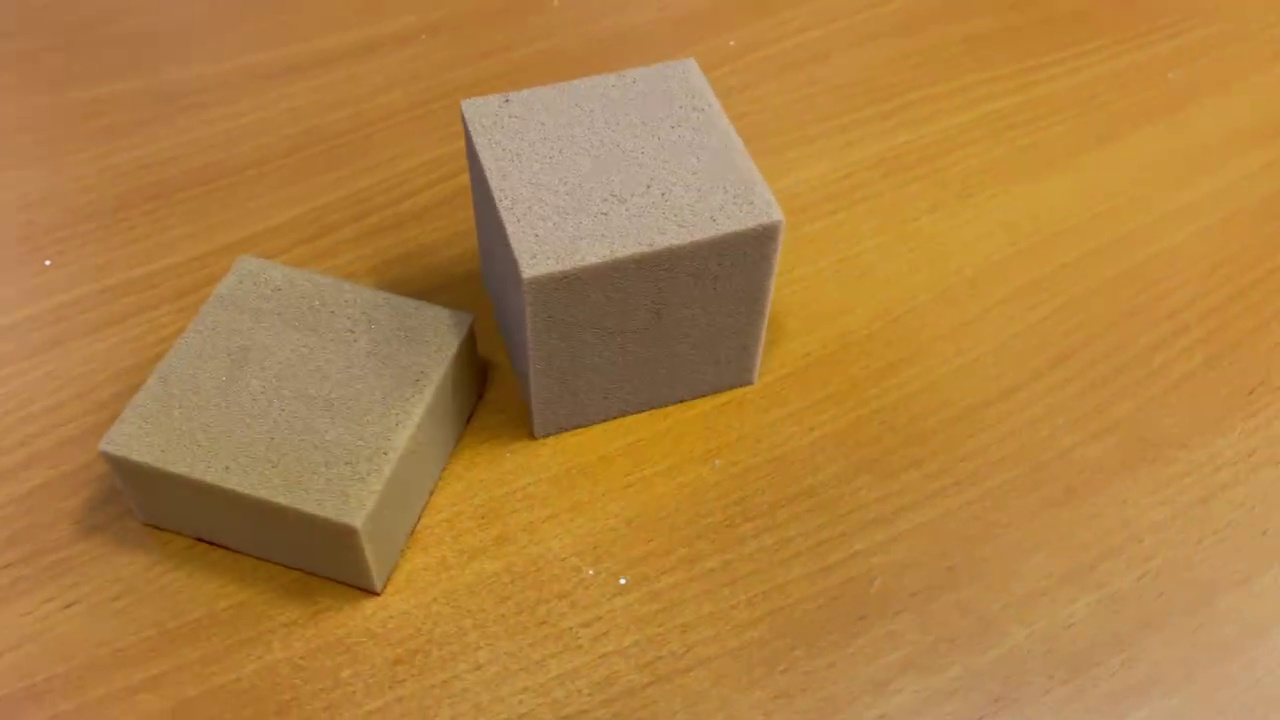Cube: (449, 45, 795, 445)
Cube_short: (94, 248, 496, 605)
